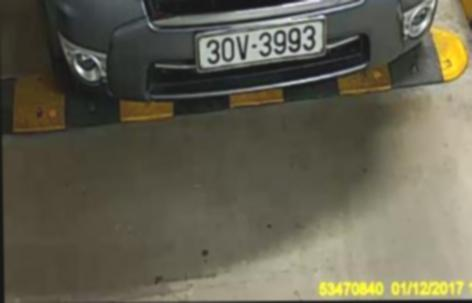License_Plate: (191, 20, 328, 69)
